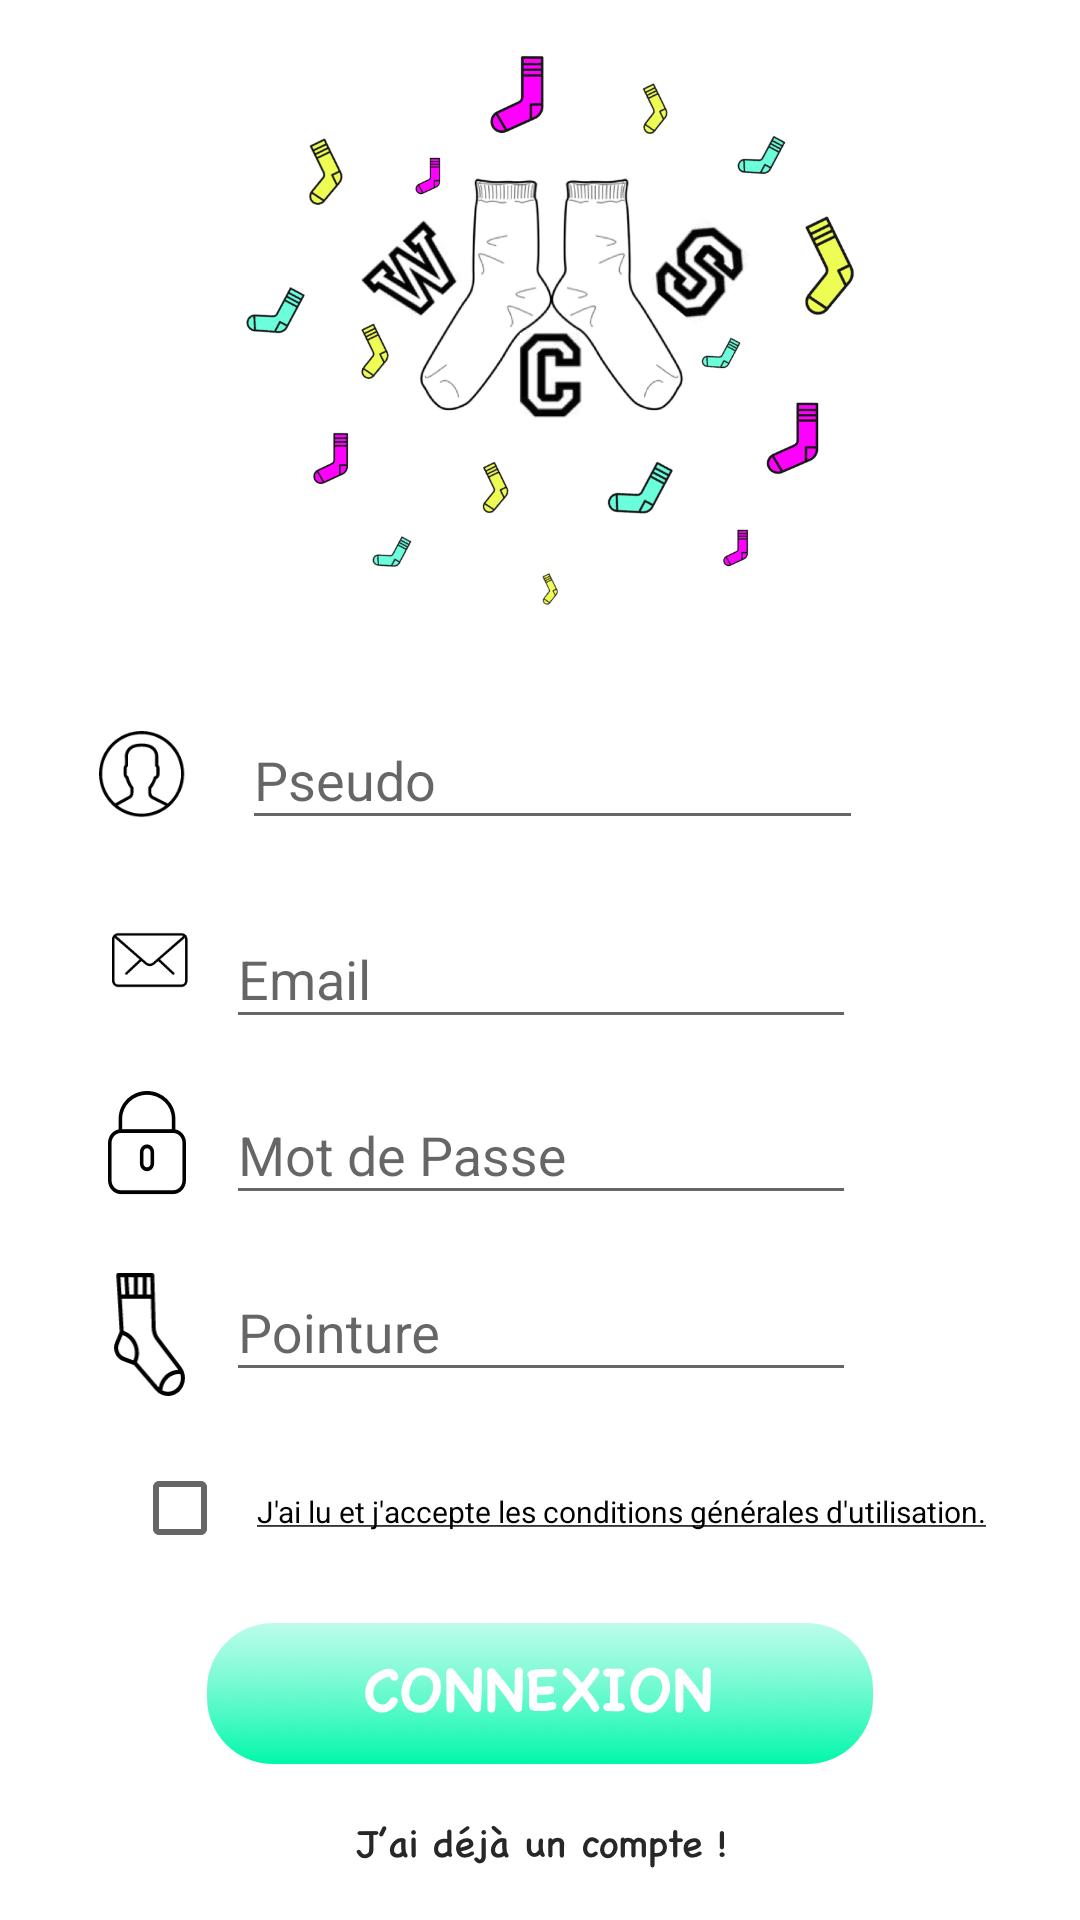

Where to tap for icons on this 1080x1920 app screen, as (x=x, y=y):
locked: (x=147, y=1142)
sock: (x=149, y=1334)
user: (x=142, y=774)
